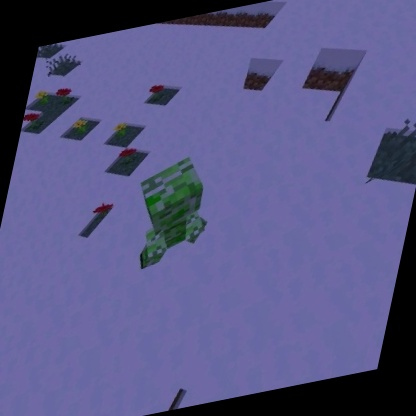creeper: (118, 148, 222, 277)
